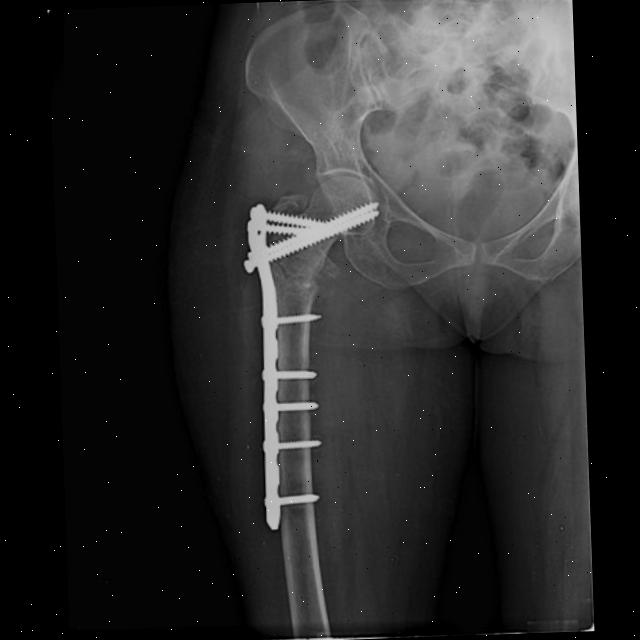Fracture: (267, 258, 321, 294)
